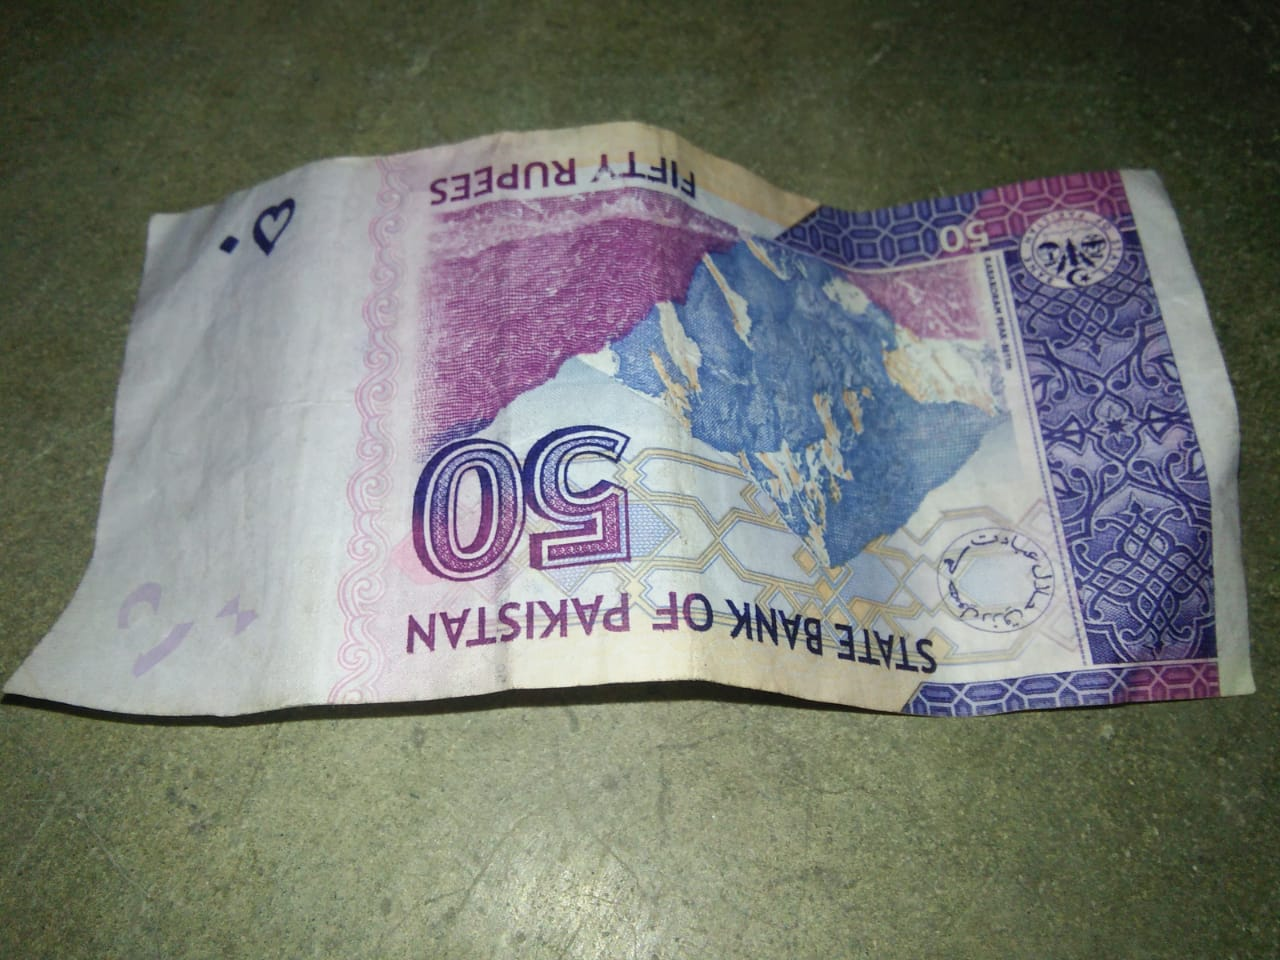50 rupee: (15, 127, 1269, 741)
